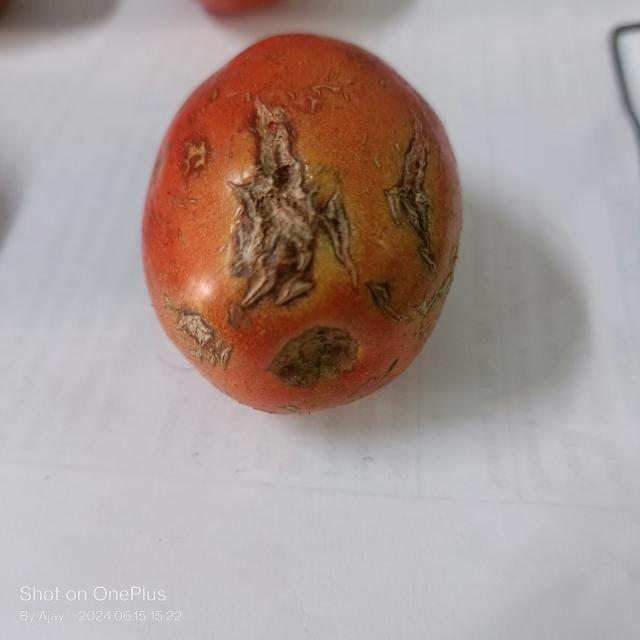tomato_cracking: (215, 106, 349, 333), (255, 323, 366, 394), (165, 290, 230, 370), (174, 121, 221, 185)
